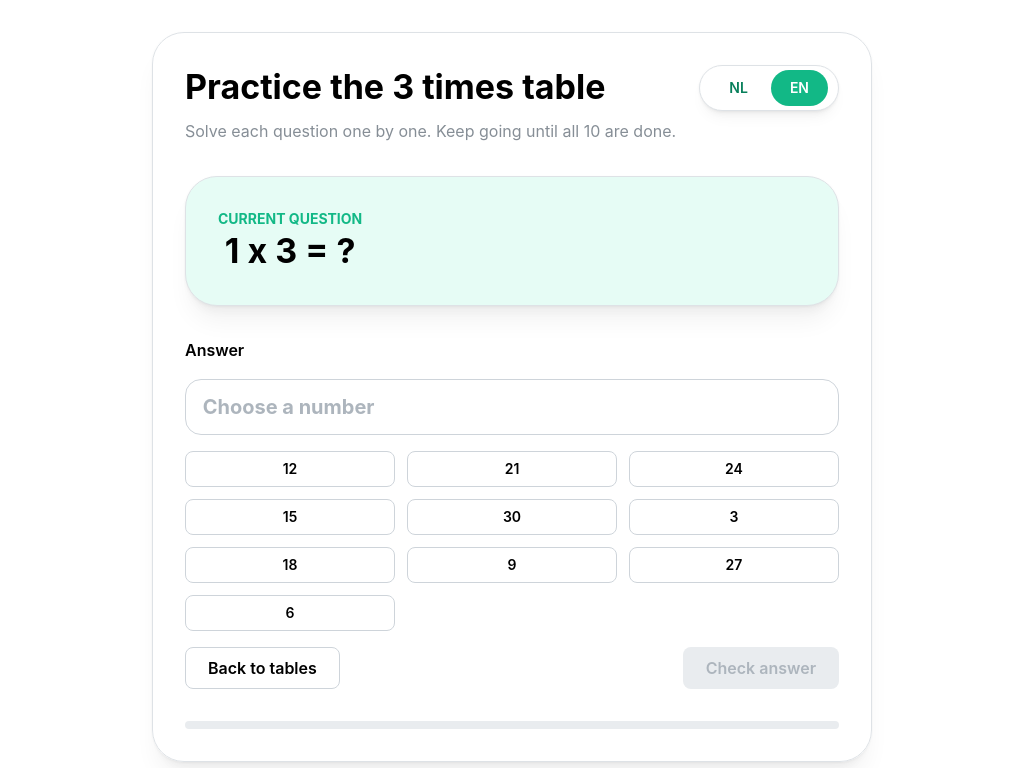
Test: GIVEN I have selected an answer, WHEN the practice screen is rendered, THEN the Check answer action is enabled
Click the button "9" at (512,565), box [407, 547, 617, 583]
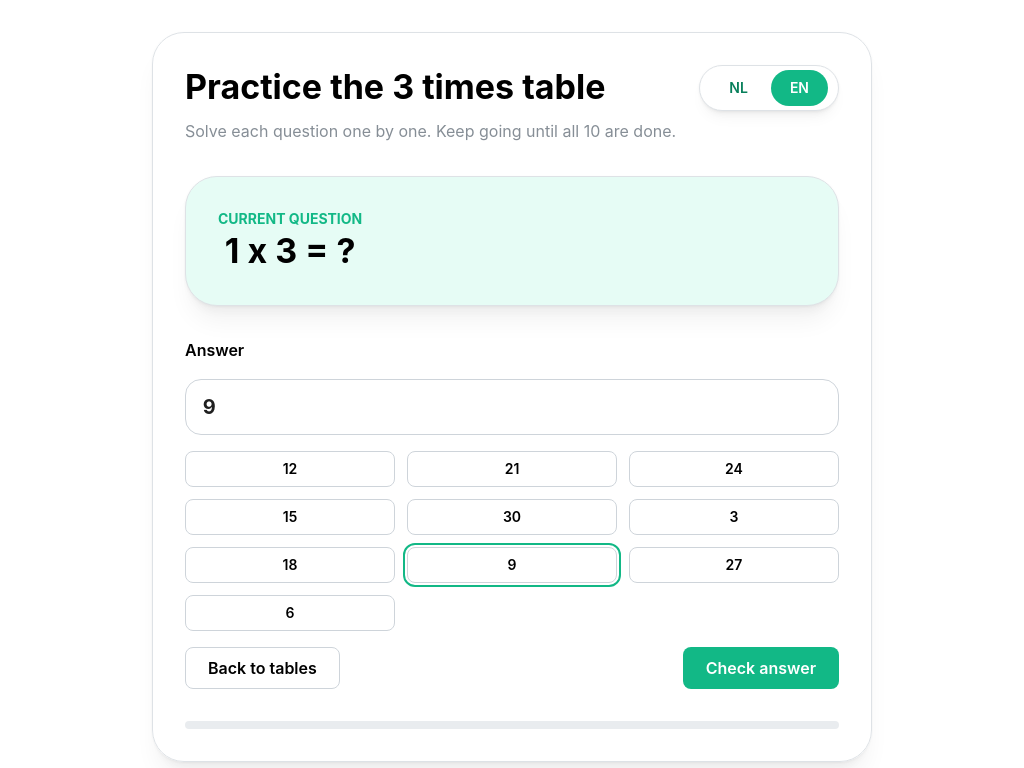
Expected: the button "Check answer" is enabled, [683, 647, 839, 689]
